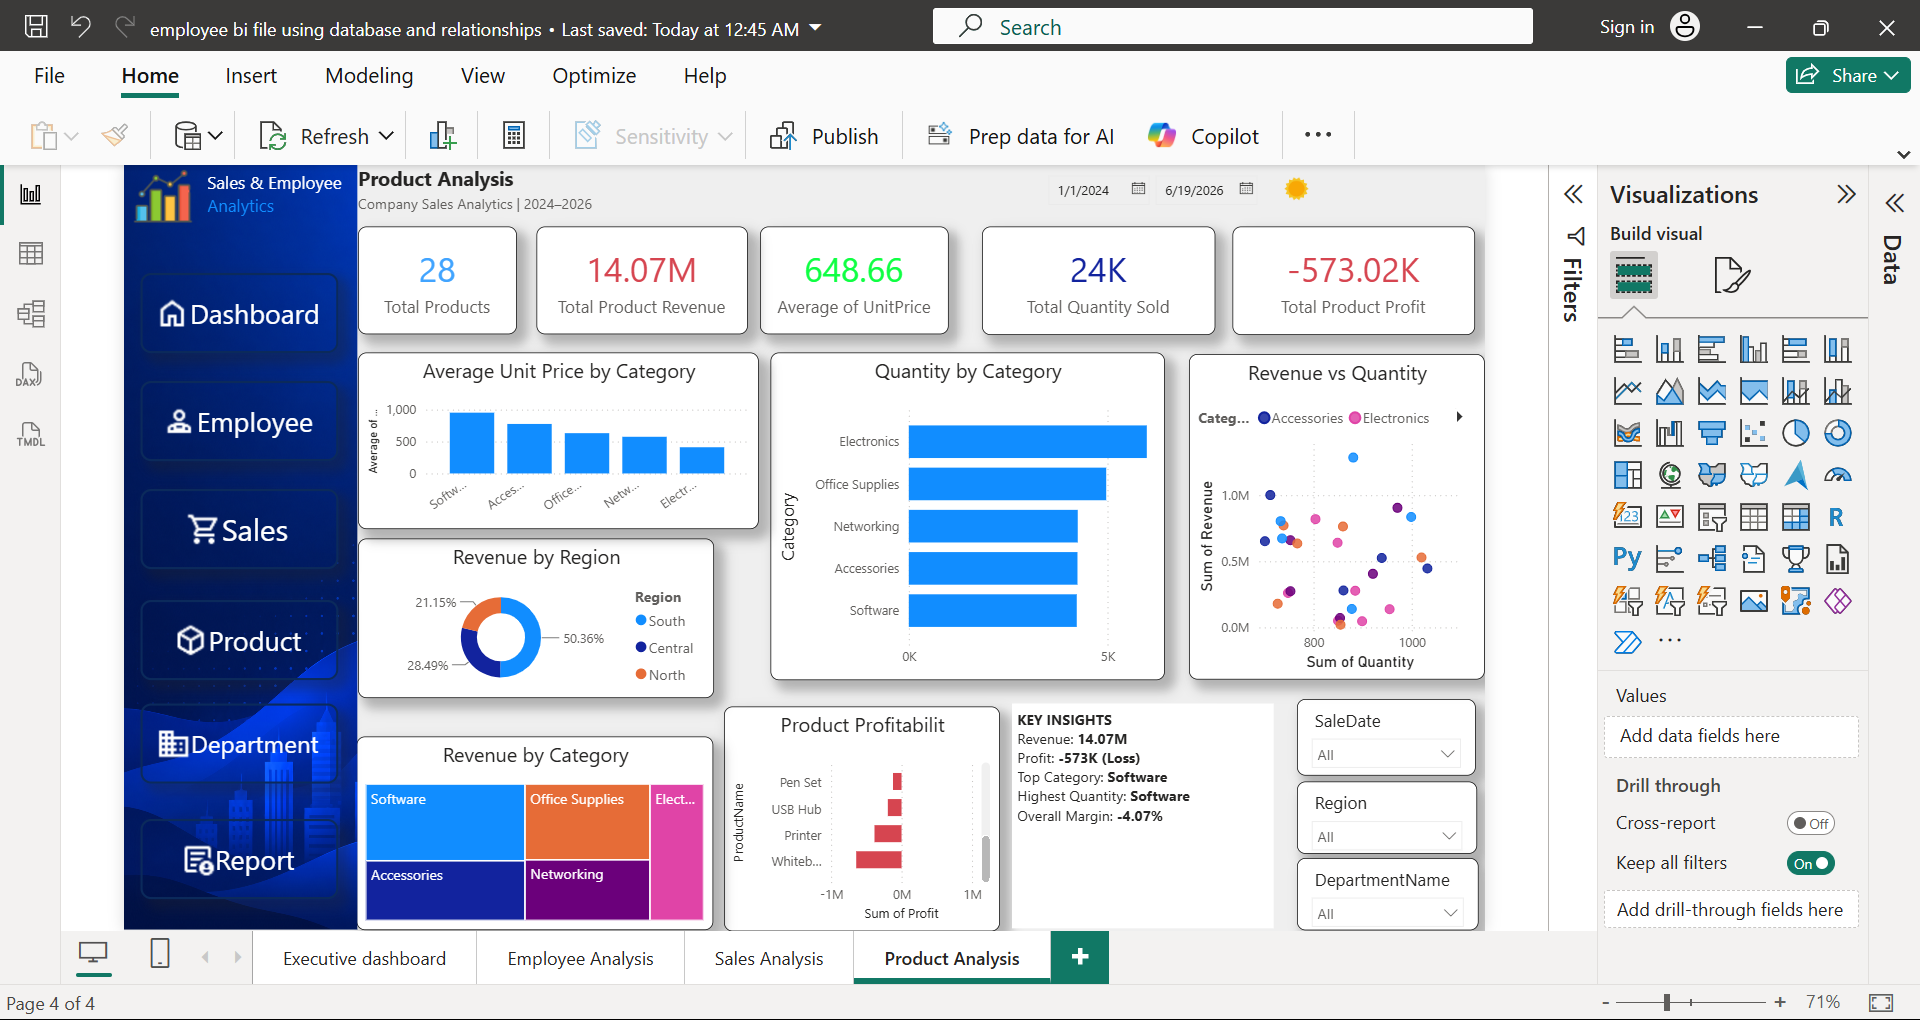

Layout of this report page (visuals, bound fields, positions):
{"tool":"powerbi","page":{"name":"Product Analysis","canvas":[1280,720],"ordinal":3},"visuals":[{"type":"card","fields":{"Values":["CountNonNull(company_powerbi products.ProductID)"]},"box":[220,57.8,149.5,101.5],"z":0},{"type":"card","fields":{"Values":["Avg(company_powerbi products.UnitPrice)"]},"box":[598.1,57.5,177.2,101.5],"z":1000},{"type":"card","fields":{"Values":["Sum(company_powerbi sales.Revenue)"]},"box":[387.6,57.5,198.4,101.5],"z":2000},{"type":"card","fields":{"Values":["Sum(company_powerbi sales.Quantity)"]},"box":[806.4,57.3,219.2,101.7],"z":3000},{"type":"card","fields":{"Values":["Sum(company_powerbi sales.Profit)"]},"box":[1041.3,57.3,227.8,101.7],"z":4000},{"type":"clusteredBarChart","title":"Quantity by Category","fields":{"Y":["Sum(company_powerbi sales.Quantity)"],"Category":["company_powerbi products.Category"]},"box":[608,176.6,370.4,307.9],"z":5000},{"type":"clusteredBarChart","title":"Product Profitabilit","fields":{"Category":["company_powerbi products.ProductName"],"Y":["Sum(company_powerbi sales.Profit)"]},"box":[564,508.5,259.4,211.5],"z":6000},{"type":"donutChart","title":"Revenue by Region","fields":{"Category":["company_powerbi employees.Region"],"Y":["Sum(company_powerbi sales.Revenue)"]},"box":[220.4,351.7,334.5,150],"z":7000},{"type":"treemap","title":"Revenue by Category","fields":{"Group":["company_powerbi products.Category"],"Values":["Sum(company_powerbi sales.Revenue)"]},"box":[218.8,537.7,335.6,181.9],"z":8000},{"type":"slicer","fields":{"Values":["company_powerbi sales.SaleDate"]},"box":[1102.6,501.9,167.8,71.9],"z":9000},{"type":"slicer","fields":{"Values":["company_powerbi customers.Region"]},"box":[1102.6,579.5,169.2,67.7],"z":10000},{"type":"slicer","fields":{"Values":["company_powerbi departments.DepartmentName"]},"box":[1102.6,651.4,170.6,67.7],"z":11000},{"type":"image","box":[0,0,219.5,719],"z":12000},{"type":"shape","title":"Product Analysis","box":[219.6,0,1059.9,57.5],"z":13000},{"type":"slicer","fields":{"Values":["company_powerbi sales.SaleDate"]},"box":[855.5,0,299.8,42.4],"z":14000},{"type":"image","box":[1081.6,11.1,41.4,22.3],"z":15000},{"type":"image","box":[0,0,73.2,58.9],"z":16000},{"type":"textbox","box":[73.2,0,146.3,58.9],"z":17000},{"type":"actionButton","box":[15.6,101.6,186,75],"z":18000},{"type":"actionButton","box":[15.6,203.2,186,75],"z":19000},{"type":"actionButton","box":[15.6,304.8,186,75],"z":20000},{"type":"actionButton","box":[15.6,409.5,186,75],"z":21000},{"type":"actionButton","box":[15.6,506.4,186,75],"z":22000},{"type":"actionButton","box":[15.6,614.3,186,75],"z":23000},{"type":"textbox","box":[835.3,506.5,245.7,211.7],"z":24000},{"type":"columnChart","title":"Average Unit Price by Category","fields":{"Category":["company_powerbi products.Category"],"Y":["Avg(company_powerbi products.UnitPrice)"]},"box":[220.4,176.6,376.7,165.7],"z":25000},{"type":"scatterChart","title":"Revenue vs Quantity","fields":{"X":["Sum(company_powerbi sales.Quantity)"],"Y":["Sum(company_powerbi sales.Revenue)"],"Series":["company_powerbi products.Category"],"Category":["company_powerbi sales.ProductID"]},"box":[1001.6,177.6,277.8,306.1],"z":26000}]}

Visuals, with their boxes on the page's 1280x720 design canvas (x1, y1, x2, y2). These are canvas units, not pixel positions in the 1920x1020 screenshot, which may show the page scaled, cropped or inside an application window:
card - CountNonNull(company_powerbi products.ProductID): bbox=[220, 58, 370, 159]
card - Avg(company_powerbi products.UnitPrice): bbox=[598, 58, 775, 159]
card - Sum(company_powerbi sales.Revenue): bbox=[388, 58, 586, 159]
card - Sum(company_powerbi sales.Quantity): bbox=[806, 57, 1026, 159]
card - Sum(company_powerbi sales.Profit): bbox=[1041, 57, 1269, 159]
"Quantity by Category" clusteredBarChart: bbox=[608, 177, 978, 484]
"Product Profitabilit" clusteredBarChart: bbox=[564, 508, 823, 720]
"Revenue by Region" donutChart: bbox=[220, 352, 555, 502]
"Revenue by Category" treemap: bbox=[219, 538, 554, 720]
slicer - company_powerbi sales.SaleDate: bbox=[1103, 502, 1270, 574]
slicer - company_powerbi customers.Region: bbox=[1103, 580, 1272, 647]
slicer - company_powerbi departments.DepartmentName: bbox=[1103, 651, 1273, 719]
image: bbox=[0, 0, 220, 719]
"Product Analysis" shape: bbox=[220, 0, 1280, 58]
slicer - company_powerbi sales.SaleDate: bbox=[856, 0, 1155, 42]
image: bbox=[1082, 11, 1123, 33]
image: bbox=[0, 0, 73, 59]
textbox: bbox=[73, 0, 220, 59]
actionButton: bbox=[16, 102, 202, 177]
actionButton: bbox=[16, 203, 202, 278]
actionButton: bbox=[16, 305, 202, 380]
actionButton: bbox=[16, 410, 202, 484]
actionButton: bbox=[16, 506, 202, 581]
actionButton: bbox=[16, 614, 202, 689]
textbox: bbox=[835, 506, 1081, 718]
"Average Unit Price by Category" columnChart: bbox=[220, 177, 597, 342]
"Revenue vs Quantity" scatterChart: bbox=[1002, 178, 1279, 484]
